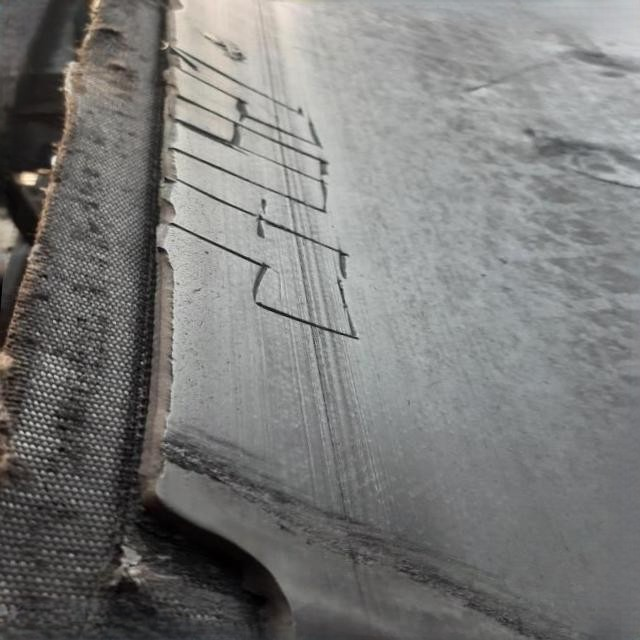Tear: (163, 40, 364, 344)
